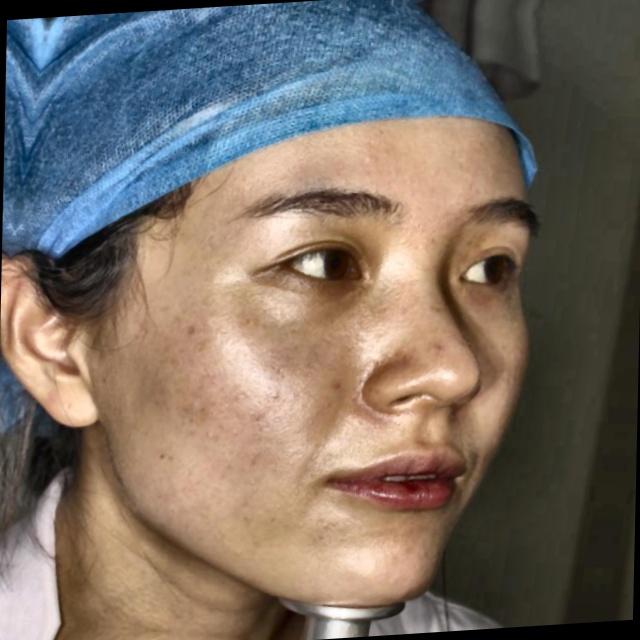comedone: (423, 331, 450, 364)
